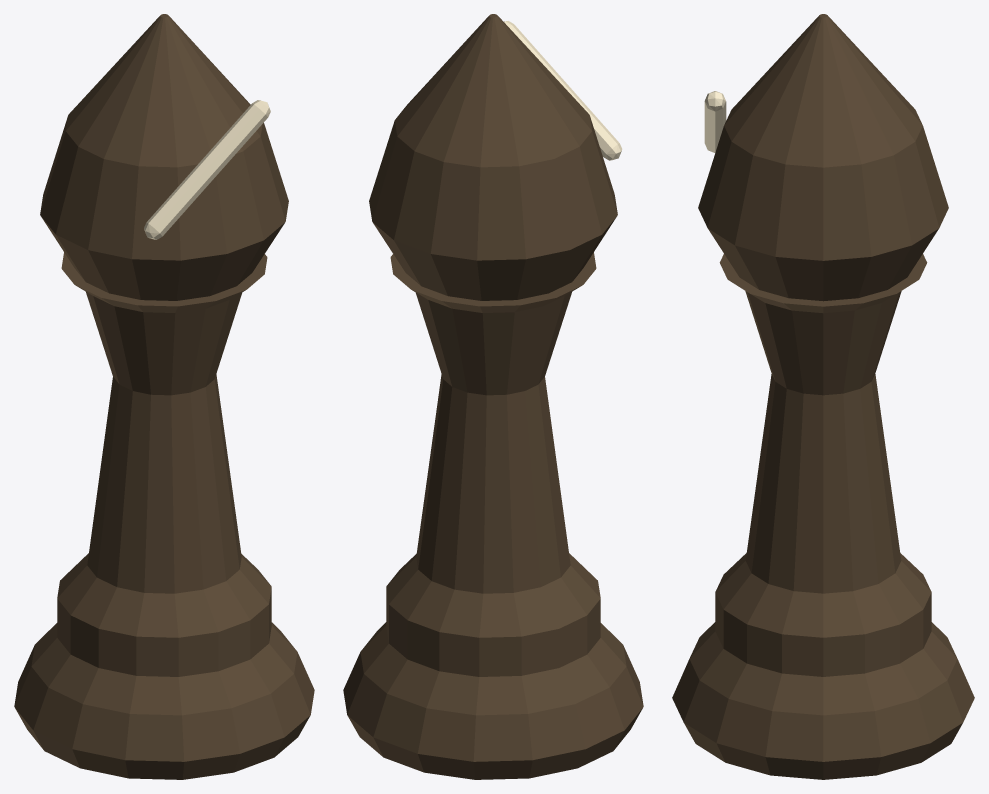
File: SM_IntellectualGrandpaHouse_Chess_Black_Bishop.fbx
3 views of the same model, side by side, from view 1: azimuth 30°, elevation 25°; view 2: azimuth 150°, elevation 25°; view 3: azimuth 270°, elevation 25° (orthographic).
Visible parts, largest first — view 1: SM_IntellectualGrandpaHouse_Chess_Black_Bishop; view 2: SM_IntellectualGrandpaHouse_Chess_Black_Bishop; view 3: SM_IntellectualGrandpaHouse_Chess_Black_Bishop.
Boxes of the visible parts, box(x1,y1,x2,y2) form: SM_IntellectualGrandpaHouse_Chess_Black_Bishop: box(14, 14, 314, 779); SM_IntellectualGrandpaHouse_Chess_Black_Bishop: box(343, 14, 643, 779); SM_IntellectualGrandpaHouse_Chess_Black_Bishop: box(672, 14, 974, 779).
Bounding box in the file's own units: 7 × 7 × 18.
